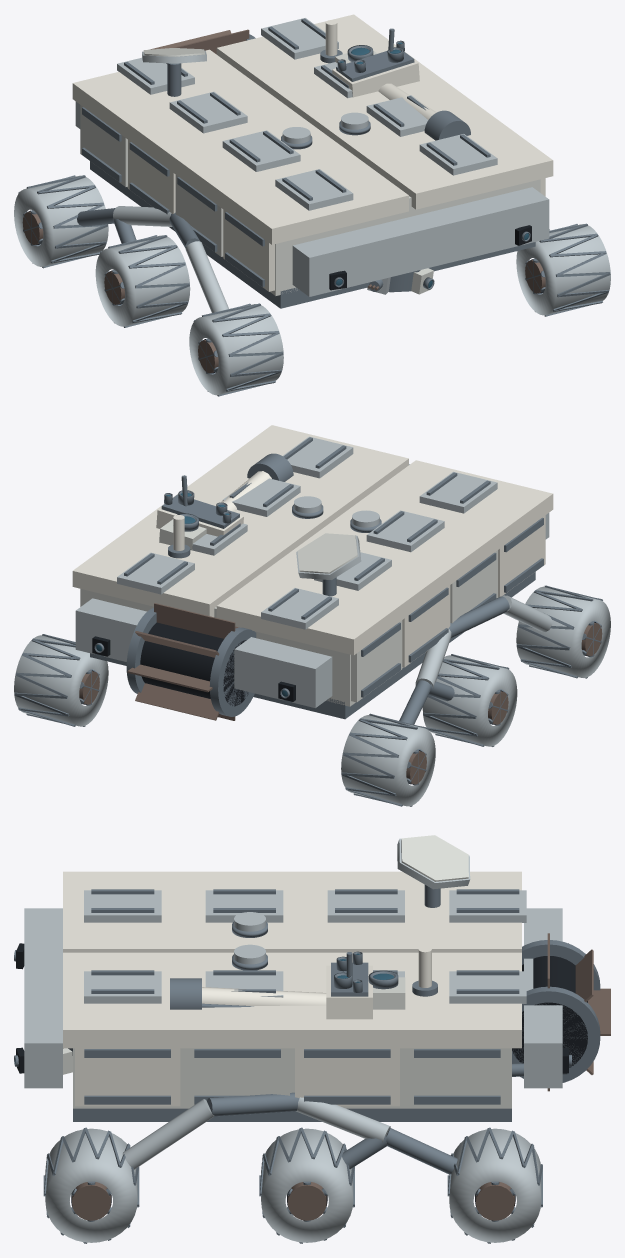
Rendered from curiosity_rover_stowed.glb.
3 views of the same model, one above another, from view 1: azimuth 30°, elevation 25°; view 2: azimuth 150°, elevation 25°; view 3: azimuth 270°, elevation 25° (orthographic). The views are drawn at different scales.
Parts seen in each view (by area): view 1: curiosity_bodydeckmesh_Warm_white_enamel, curiosity_bodyfront_equipmentmesh_Satin_aluminum, curiosity_bodydeckmesh_Satin_aluminum, curiosity_mobilityrocker_leftbogieaxle_middlewheel_middlerim (×2), curiosity_mobilityrocker_rightsteer_frontwheel_frontrimmesh_ (×2), curiosity_mobilityrocker_leftbogiesteer_rearwheel_rearrimmes (×2), curiosity_bodymesh_Pale_thermal_blanket, curiosity_bodymesh_Machined_steel, curiosity_mobilityrocker_leftsteer_frontwheel_frontrimmesh_S, curiosity_bodymesh_Warm_white_enamel, curiosity_bodydeckmesh_Machined_steel, curiosity_mobilityrocker_leftmesh_Satin_aluminum (+9 smaller); view 2: curiosity_bodydeckmesh_Warm_white_enamel, curiosity_bodydeckmesh_Satin_aluminum, curiosity_bodyrear_equipmentmesh_Satin_aluminum, curiosity_mobilityrocker_leftbogiesteer_rearwheel_rearrimmes (×2), curiosity_mobilityrocker_rightbogiesteer_rearwheel_rearrimme (×2), curiosity_mobilityrocker_leftbogieaxle_middlewheel_middlerim (×2), curiosity_bodymesh_Pale_thermal_blanket, curiosity_bodypower_commsmmrtgmesh_Heat-stained_alloy, curiosity_mobilityrocker_leftsteer_frontwheel_frontrimmesh_S, curiosity_bodymesh_Machined_steel, curiosity_bodypower_commsmmrtgmesh_Carbon_composite, curiosity_bodymesh_Warm_white_enamel (+13 smaller); view 3: curiosity_bodydeckmesh_Warm_white_enamel, curiosity_bodydeckmesh_Satin_aluminum, curiosity_bodymesh_Pale_thermal_blanket, curiosity_bodymesh_Machined_steel, curiosity_mobilityrocker_rightbogiesteer_rearwheel_rearrimme (×3), curiosity_mobilityrocker_rightbogieaxle_middlewheel_middleri (×3), curiosity_mobilityrocker_rightsteer_frontwheel_frontrimmesh_ (×3), curiosity_bodymesh_Warm_white_enamel, curiosity_bodyfront_equipmentmesh_Satin_aluminum, curiosity_bodyrear_equipmentmesh_Satin_aluminum, curiosity_bodydeckmesh_Machined_steel, curiosity_mobilityrocker_rightmesh_Satin_aluminum (+16 smaller).
Part boxes in pixels (left/top/right/bottom): curiosity_bodydeckmesh_Warm_white_enamel: left=72, top=14, right=553, bottom=244; curiosity_bodyfront_equipmentmesh_Satin_aluminum: left=292, top=187, right=549, bottom=296; curiosity_bodydeckmesh_Satin_aluminum: left=117, top=18, right=497, bottom=210; curiosity_mobilityrocker_leftbogieaxle_middlewheel_middlerim (×2): left=95, top=235, right=190, bottom=327; curiosity_mobilityrocker_rightsteer_frontwheel_frontrimmesh_ (×2): left=516, top=223, right=610, bottom=316; curiosity_mobilityrocker_leftbogiesteer_rearwheel_rearrimmes (×2): left=14, top=175, right=108, bottom=268; curiosity_bodymesh_Pale_thermal_blanket: left=80, top=105, right=540, bottom=295; curiosity_bodymesh_Machined_steel: left=82, top=107, right=535, bottom=308; curiosity_mobilityrocker_leftsteer_frontwheel_frontrimmesh_S: left=189, top=304, right=283, bottom=395; curiosity_bodymesh_Warm_white_enamel: left=128, top=140, right=545, bottom=291; curiosity_bodydeckmesh_Machined_steel: left=124, top=18, right=490, bottom=200; curiosity_mobilityrocker_leftmesh_Satin_aluminum: left=113, top=206, right=228, bottom=312; curiosity_bodydeckmesh_Warm_white_enamel: left=72, top=425, right=553, bottom=655; curiosity_bodydeckmesh_Satin_aluminum: left=117, top=436, right=497, bottom=629; curiosity_bodyrear_equipmentmesh_Satin_aluminum: left=75, top=598, right=332, bottom=708; curiosity_mobilityrocker_leftbogiesteer_rearwheel_rearrimmes (×2): left=341, top=713, right=435, bottom=806; curiosity_mobilityrocker_rightbogiesteer_rearwheel_rearrimme (×2): left=14, top=634, right=108, bottom=726; curiosity_mobilityrocker_leftbogieaxle_middlewheel_middlerim (×2): left=422, top=654, right=517, bottom=746; curiosity_bodymesh_Pale_thermal_blanket: left=80, top=550, right=498, bottom=706; curiosity_bodypower_commsmmrtgmesh_Heat-stained_alloy: left=127, top=603, right=238, bottom=720; curiosity_mobilityrocker_leftsteer_frontwheel_frontrimmesh_S: left=516, top=586, right=610, bottom=677; curiosity_bodymesh_Machined_steel: left=90, top=517, right=543, bottom=719; curiosity_bodypower_commsmmrtgmesh_Carbon_composite: left=140, top=622, right=248, bottom=706; curiosity_bodymesh_Warm_white_enamel: left=402, top=515, right=545, bottom=667; curiosity_bodydeckmesh_Warm_white_enamel: left=63, top=871, right=521, bottom=1048; curiosity_bodydeckmesh_Satin_aluminum: left=84, top=890, right=526, bottom=1003; curiosity_bodymesh_Pale_thermal_blanket: left=73, top=1048, right=511, bottom=1108; curiosity_bodymesh_Machined_steel: left=73, top=1049, right=511, bottom=1121; curiosity_mobilityrocker_rightbogiesteer_rearwheel_rearrimme (×3): left=447, top=1127, right=542, bottom=1243; curiosity_mobilityrocker_rightbogieaxle_middlewheel_middleri (×3): left=259, top=1127, right=354, bottom=1243; curiosity_mobilityrocker_rightsteer_frontwheel_frontrimmesh_ (×3): left=43, top=1127, right=139, bottom=1243; curiosity_bodymesh_Warm_white_enamel: left=75, top=1048, right=399, bottom=1106; curiosity_bodyfront_equipmentmesh_Satin_aluminum: left=24, top=908, right=62, bottom=1088; curiosity_bodyrear_equipmentmesh_Satin_aluminum: left=524, top=908, right=562, bottom=1088; curiosity_bodydeckmesh_Machined_steel: left=91, top=889, right=519, bottom=993; curiosity_mobilityrocker_rightmesh_Satin_aluminum: left=122, top=1097, right=390, bottom=1169.
Bounding box in the file's own units: 2.8 × 1.48 × 3.24.
